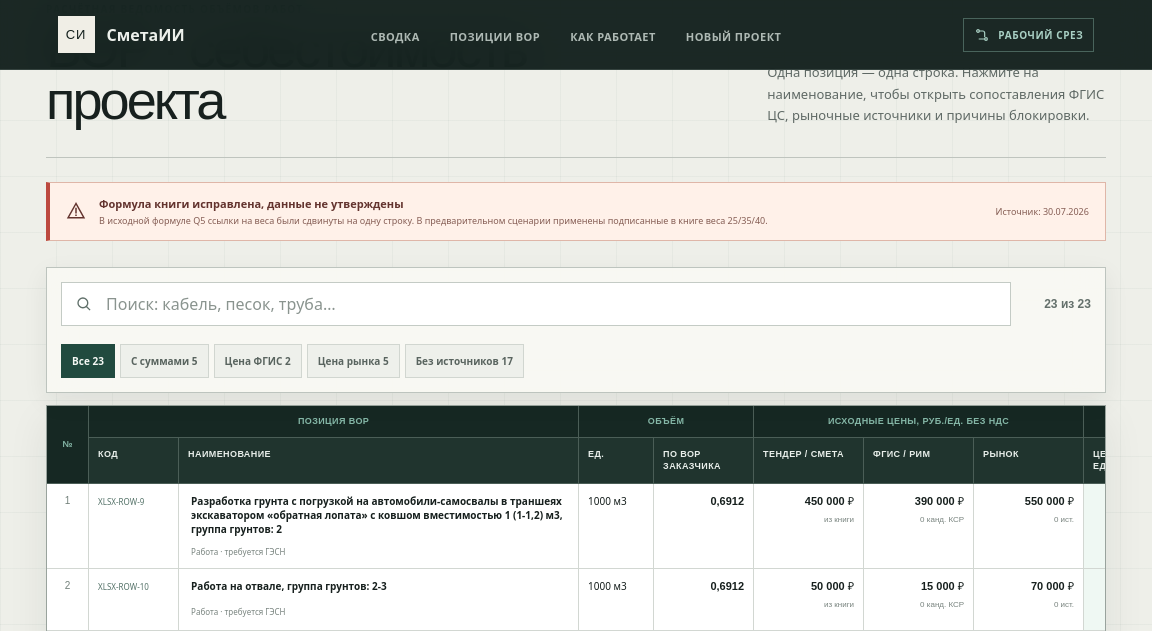
Test case: public project workbench › filters the project to positions with observed amounts
This screenshot has width=1152, height=631.
(page scrolled)
expect the text "23 из 23" is shown: met, box [1044,297,1091,311]
Click the button "Цена ФГИС 2".
click(258, 361)  # box [214,344,302,378]
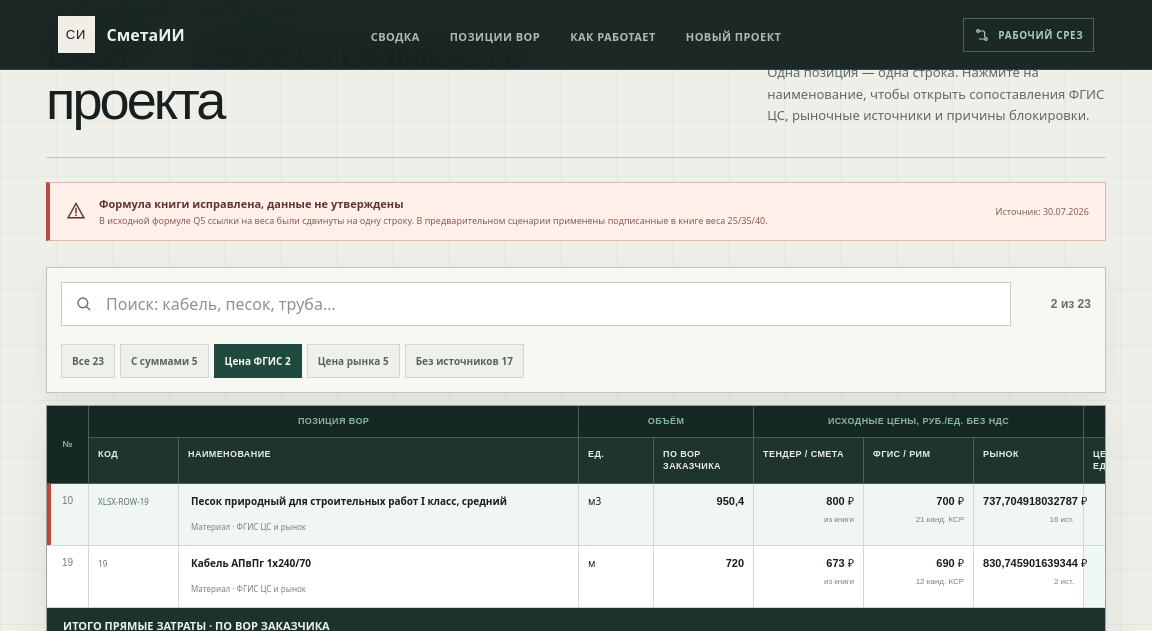
expect the text "2 из 23" is shown: met, box [1051,297,1091,311]
Click the button "С суммами 5".
click(164, 361)  # box [120,344,209,378]
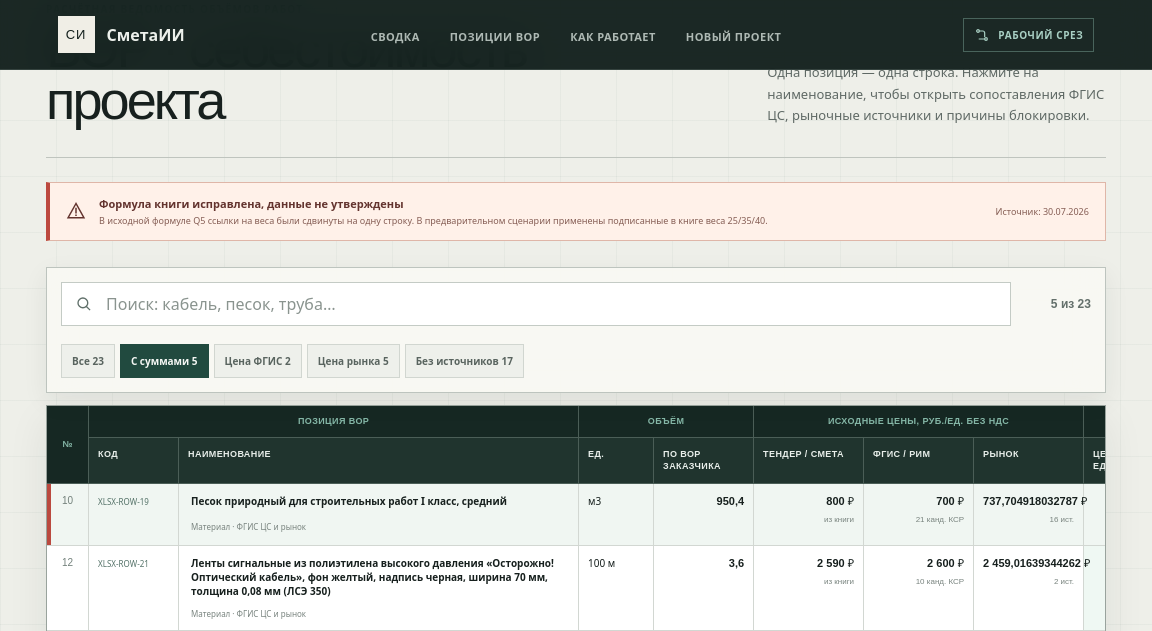
expect the text "5 из 23" is shown: met, box [1051,297,1091,311]
